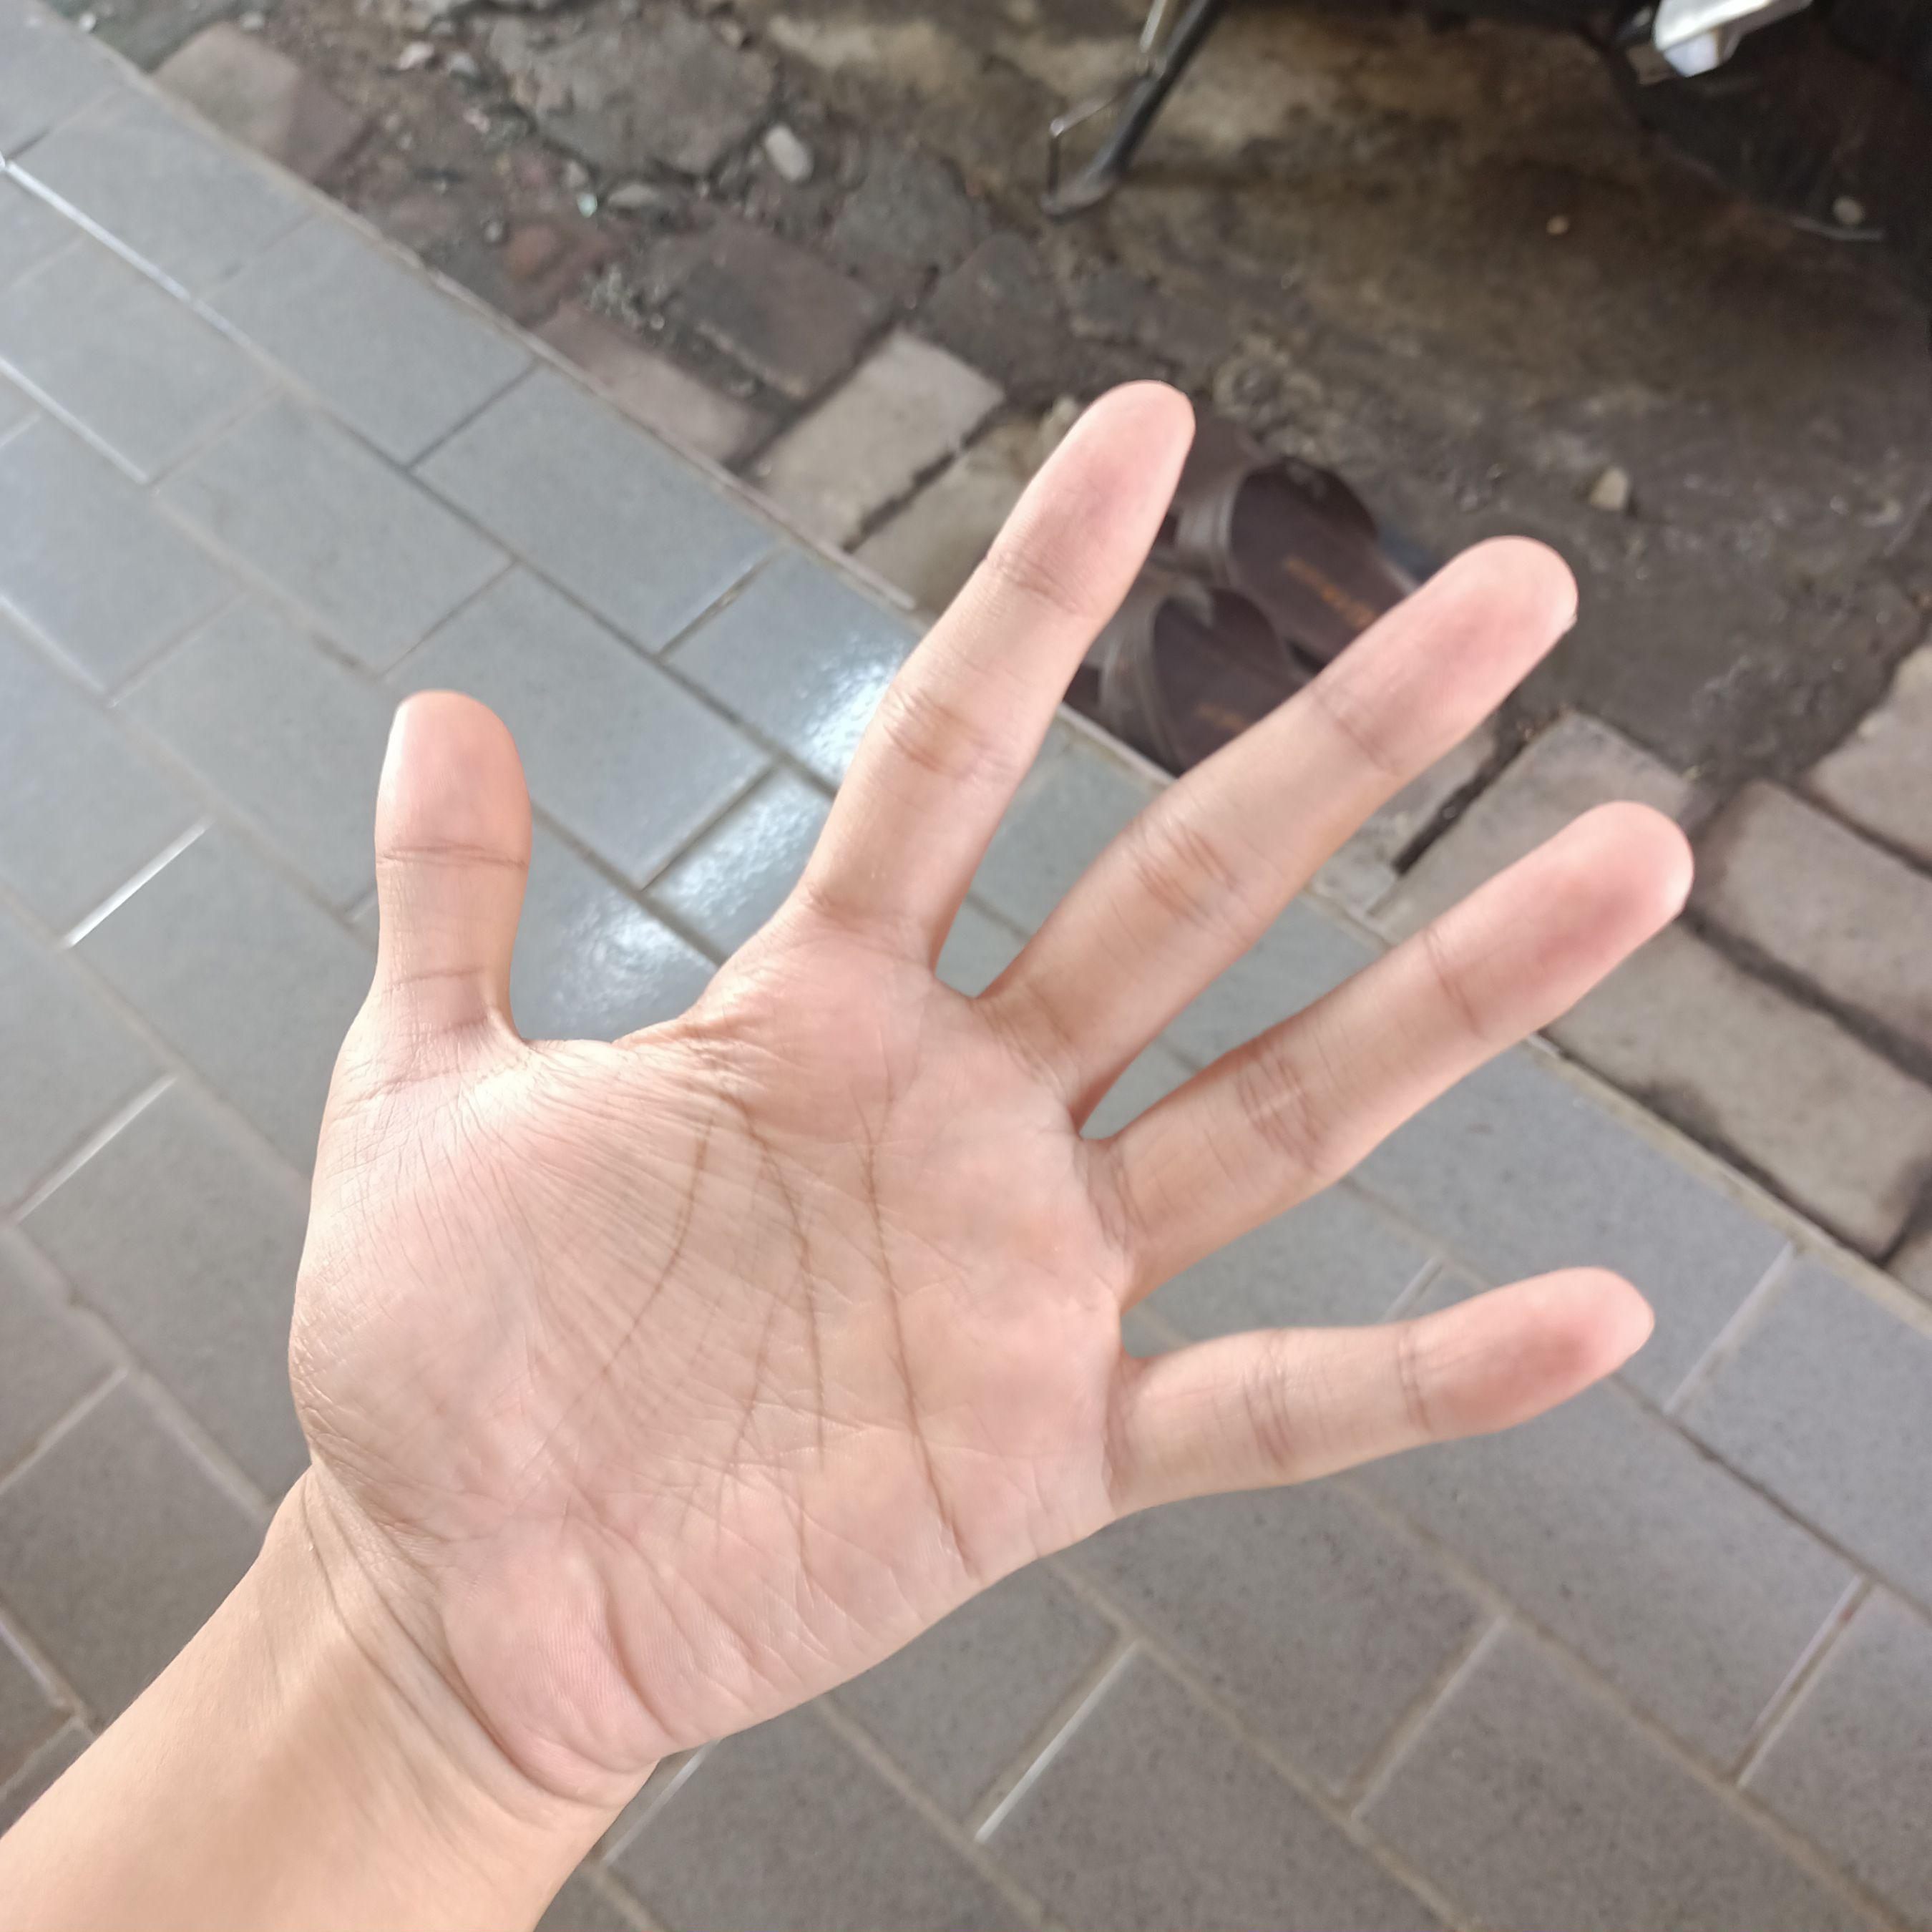paper: (265, 356, 1737, 1835)
